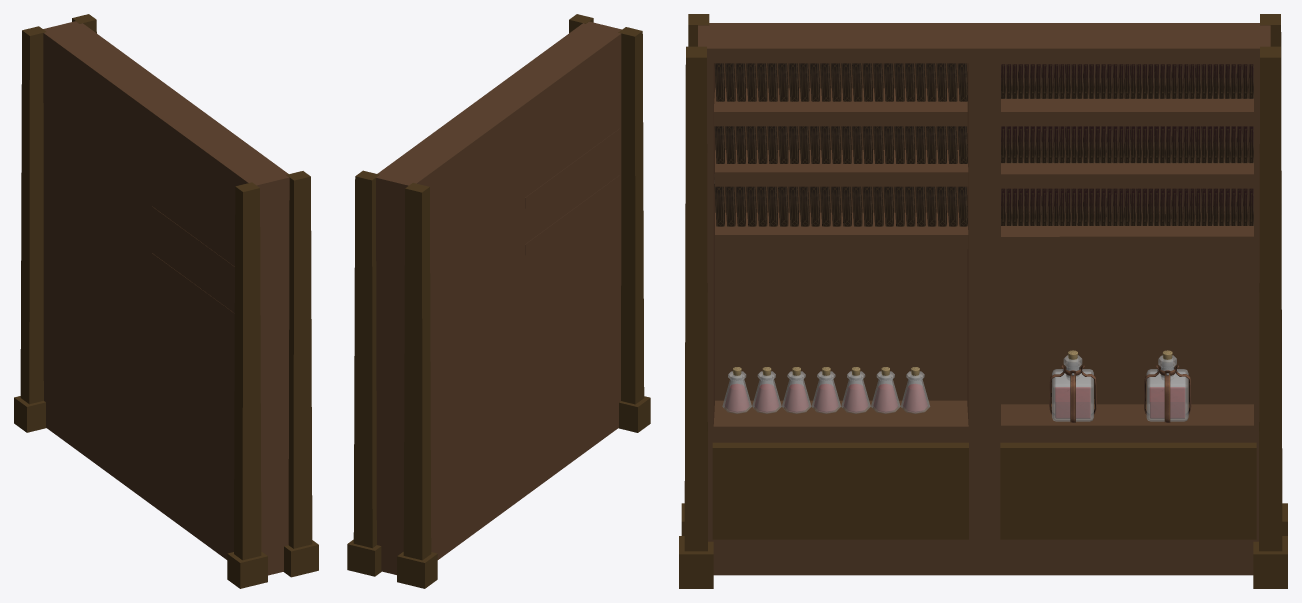
Rendered from Bookshelf_var1.fbx.
The picture shows the model from 3 angles, left to right: view 1: azimuth 30°, elevation 25°; view 2: azimuth 150°, elevation 25°; view 3: azimuth 270°, elevation 25°; orthographic projection. The views are drawn at different scales.
Parts seen in each view (by area): view 1: Bookshelf_var1; view 2: Bookshelf_var1; view 3: Bookshelf_var1, Elise's Flowerbook(Book)_Shelves, Elarine, Einshte(Book)_Shelves, Potion_05.001, Potion_02.001.
Part boxes in pixels (left/top/right/bottom): Bookshelf_var1: left=14, top=14, right=318, bottom=588; Bookshelf_var1: left=347, top=14, right=650, bottom=588; Bookshelf_var1: left=679, top=14, right=1287, bottom=588; Elise's Flowerbook(Book)_Shelves: left=1001, top=64, right=1253, bottom=225; Elarine, Einshte(Book)_Shelves: left=714, top=63, right=967, bottom=226; Potion_05.001: left=722, top=367, right=930, bottom=413; Potion_02.001: left=1049, top=350, right=1191, bottom=422.
Size of the model in its own units: 166 by 803 by 840.
Materials: 10 (8 with a texture image).
